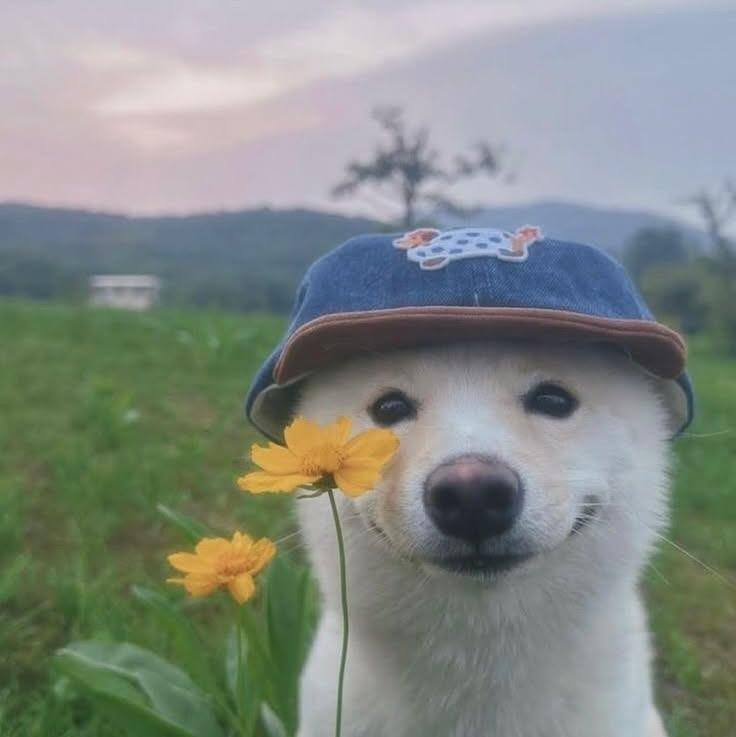adult_dog: (281, 336, 685, 737)
